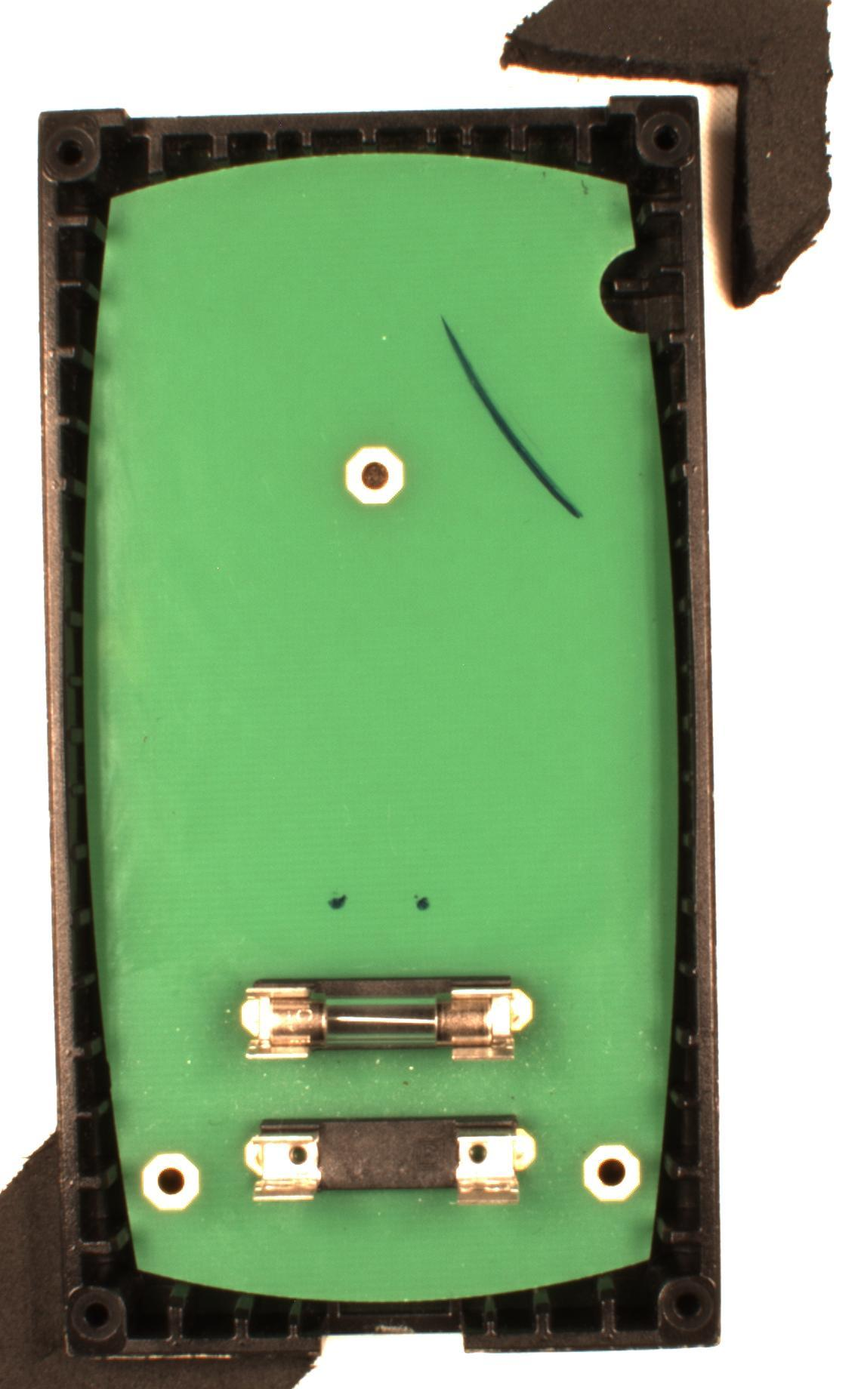Linijsko Ostecene: (438, 315, 586, 521)
Nepostojanje osiguraca: (243, 1109, 540, 1206)
Tockasto Ostecenje: (326, 890, 351, 914), (411, 891, 436, 914)
